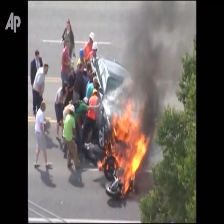fire_h: (105, 97, 150, 193)
fire_l: (97, 155, 108, 170), (106, 164, 109, 169)
